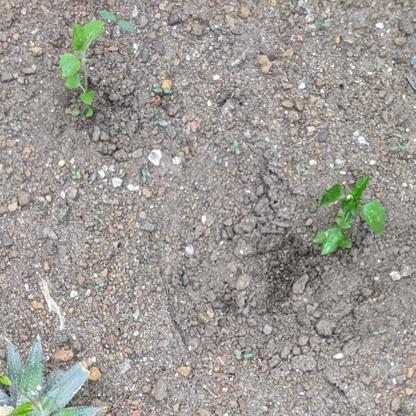pineapple: (1, 330, 108, 416)
weed: (311, 174, 391, 257), (57, 19, 109, 117)
